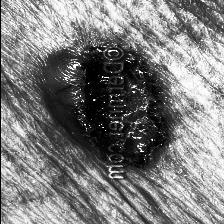Potentially Malignant Skin Tumors: (66, 50, 162, 158)
